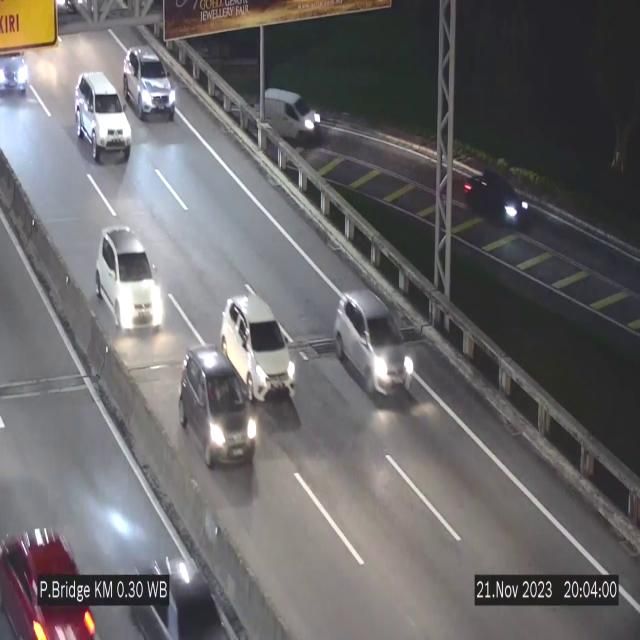Car: (0, 503, 105, 640), (126, 531, 248, 640), (331, 285, 418, 408), (179, 350, 259, 468), (220, 294, 296, 401), (454, 150, 540, 240), (95, 226, 165, 330), (75, 72, 131, 162), (257, 77, 325, 151), (123, 46, 176, 120), (0, 45, 40, 95)
